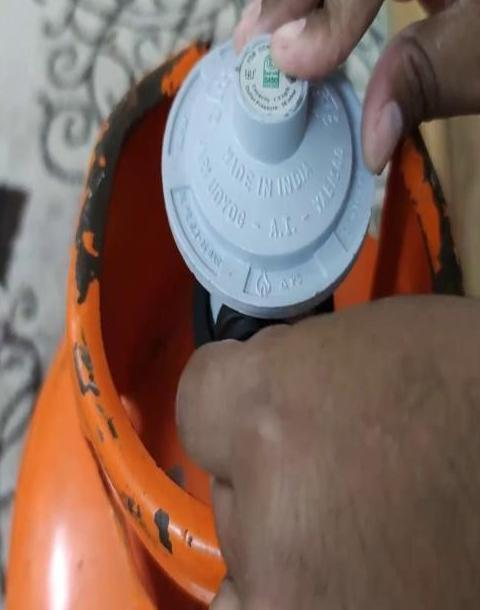cylinder: (1, 1, 480, 610)
